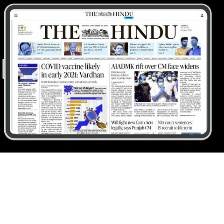news_paper: (11, 9, 210, 139)
